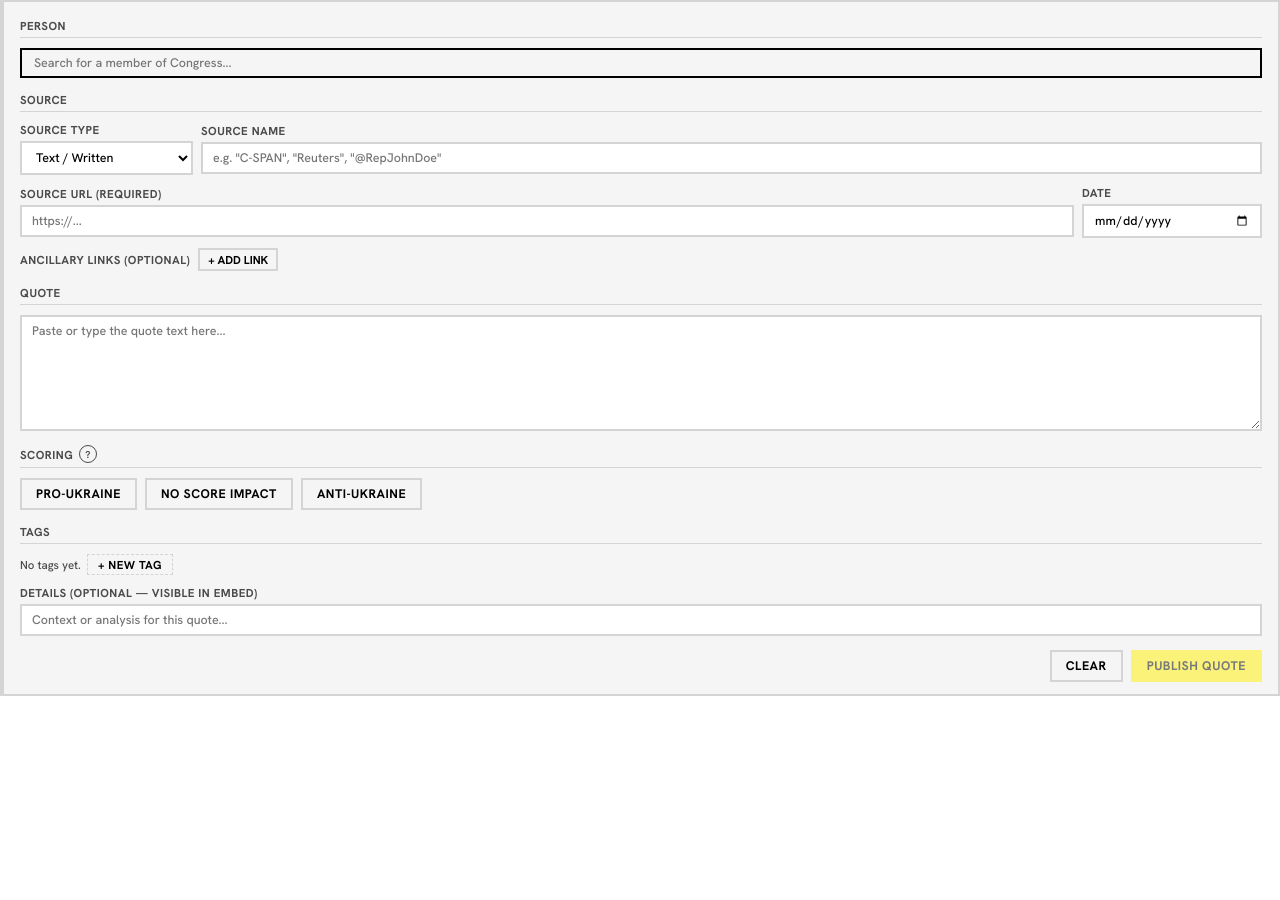
AddQuoteView — validation (no API call on bad input) › rejects an invalid (non-https) source URL
This screenshot has width=1280, height=900.
Expected: the text "Person" is shown, [20,18,1262,38]
Step 1. Type "Ali" into the field with placeholder "Search for a member of Congress..." → point(641, 63), box [32,54,1250,72]
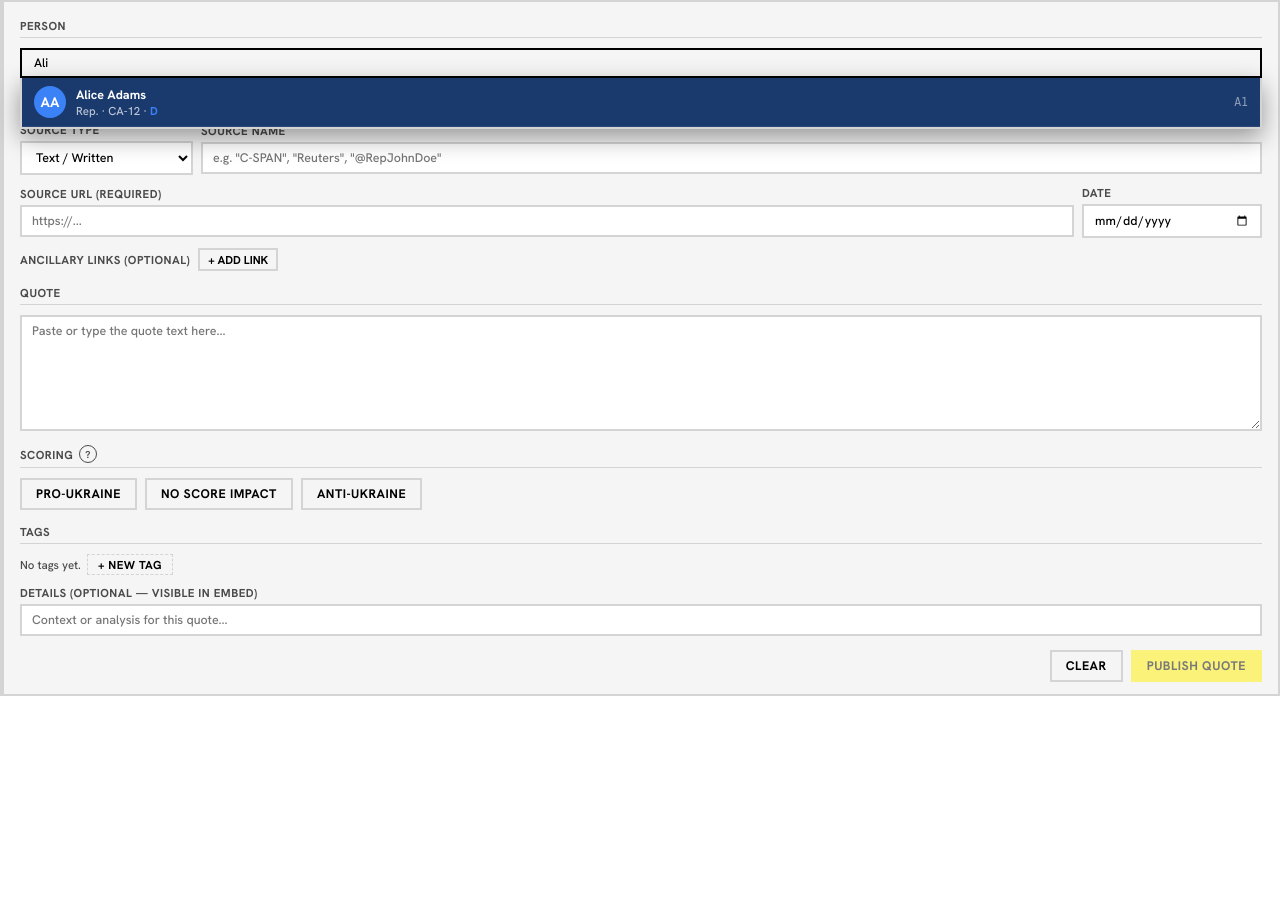
Step 2. Click the text "Alice Adams" → point(111, 94), box [76,86,146,102]
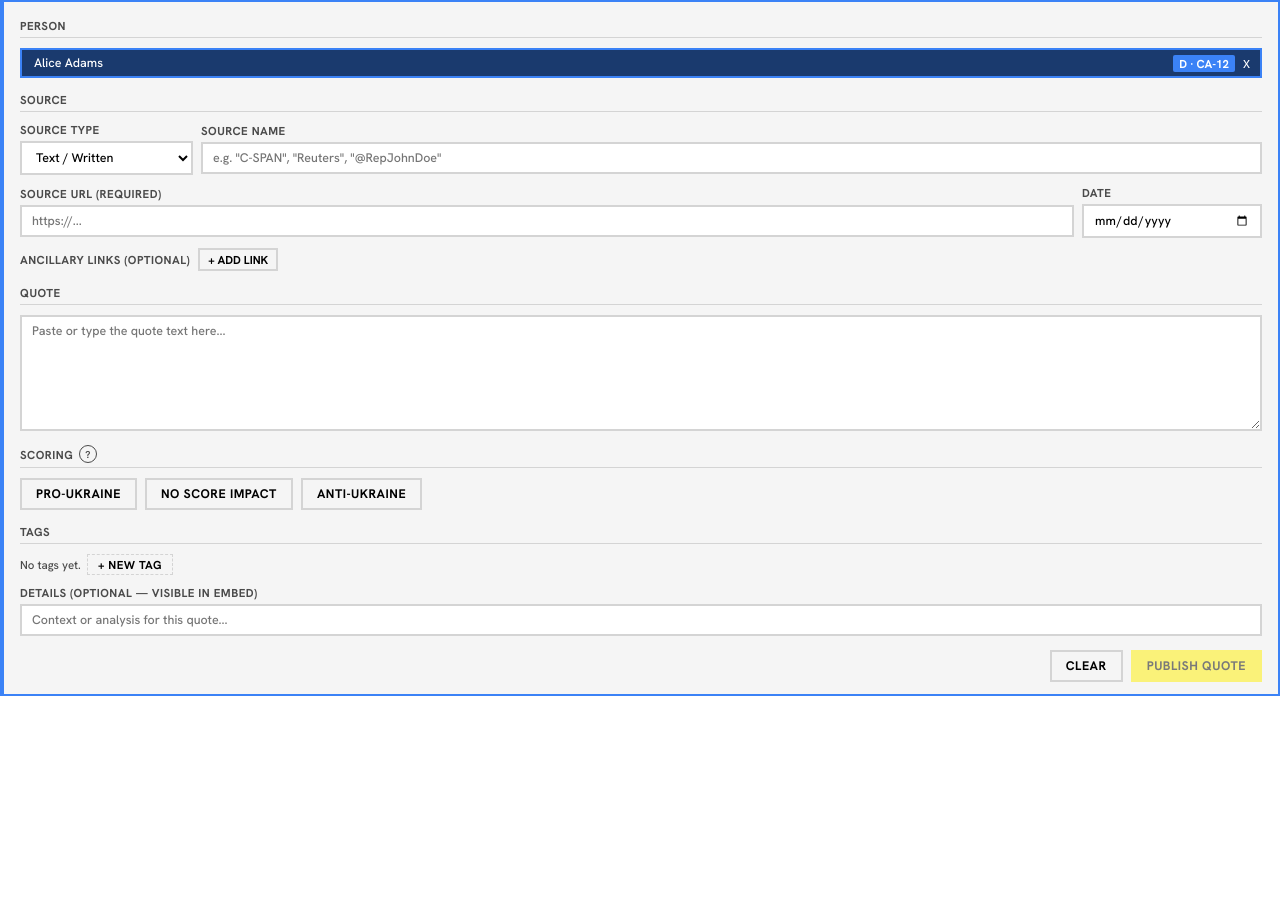
Step 3. Type "not a url" into the field with placeholder "https://..." → point(547, 221), box [20,205,1074,237]
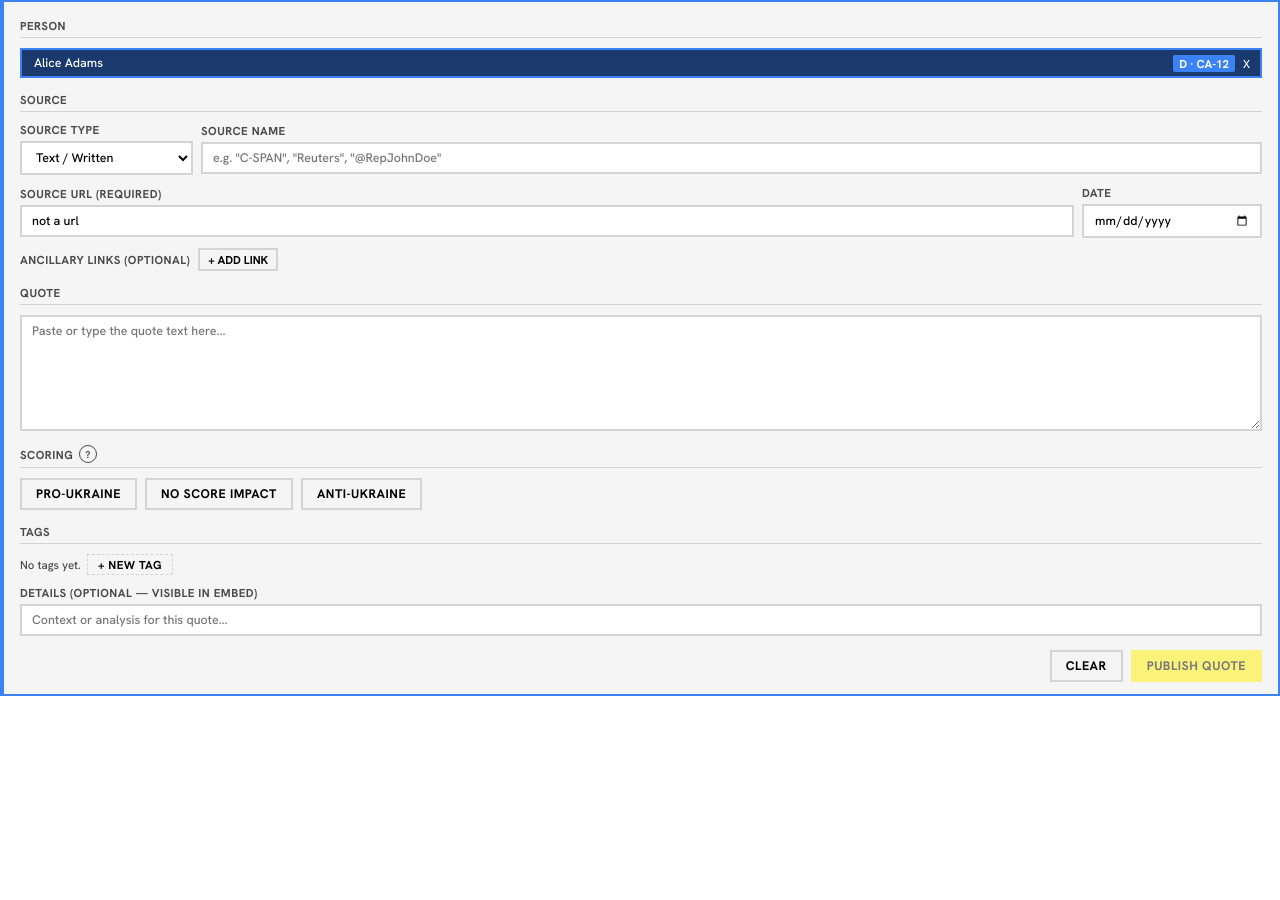
Step 4. Type "A quote" into the text box with placeholder "Paste or type the quote text here..." → point(641, 373), box [20,315,1262,431]
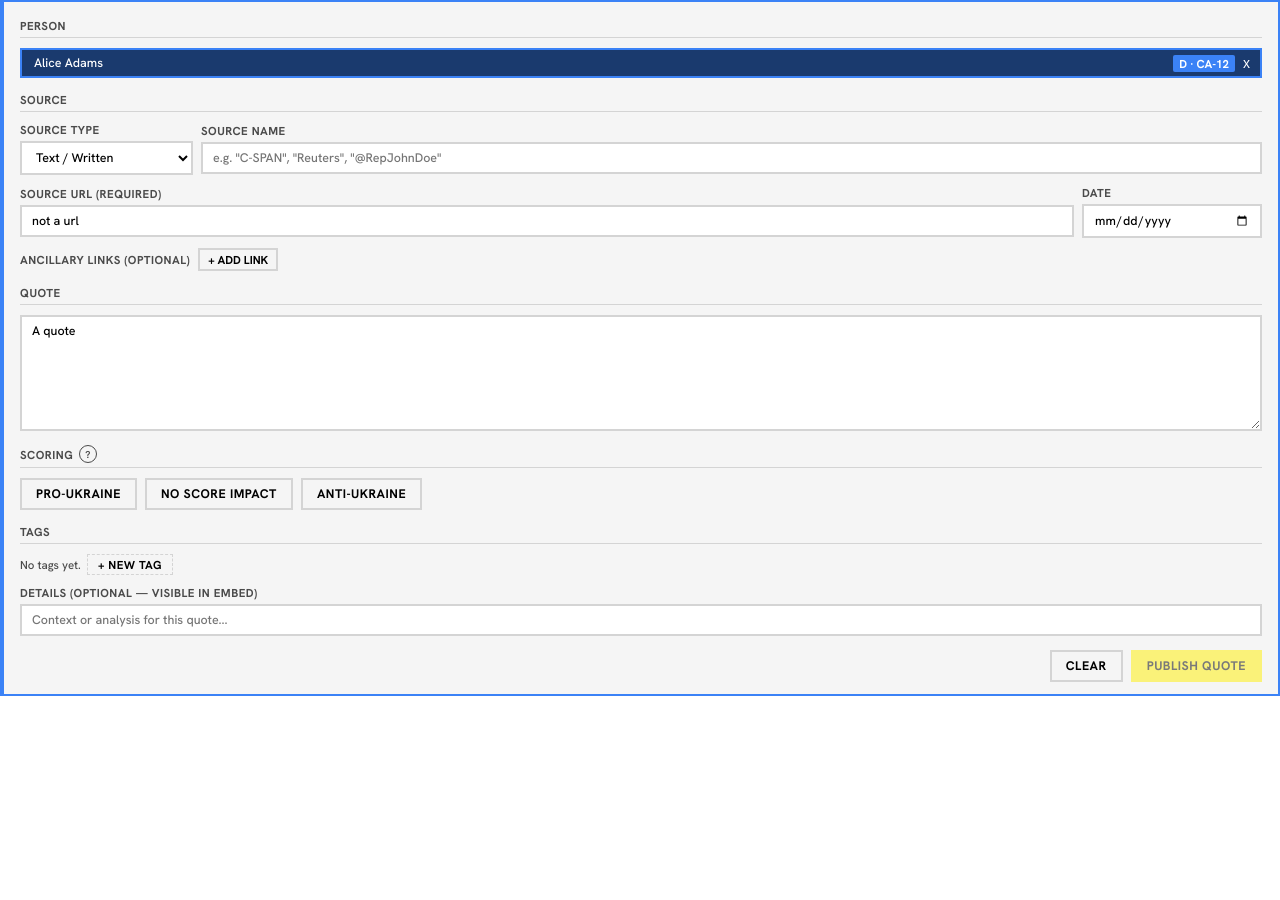
Step 5. Click the button "Pro-Ukraine" → point(78, 494), box [20,478,137,510]
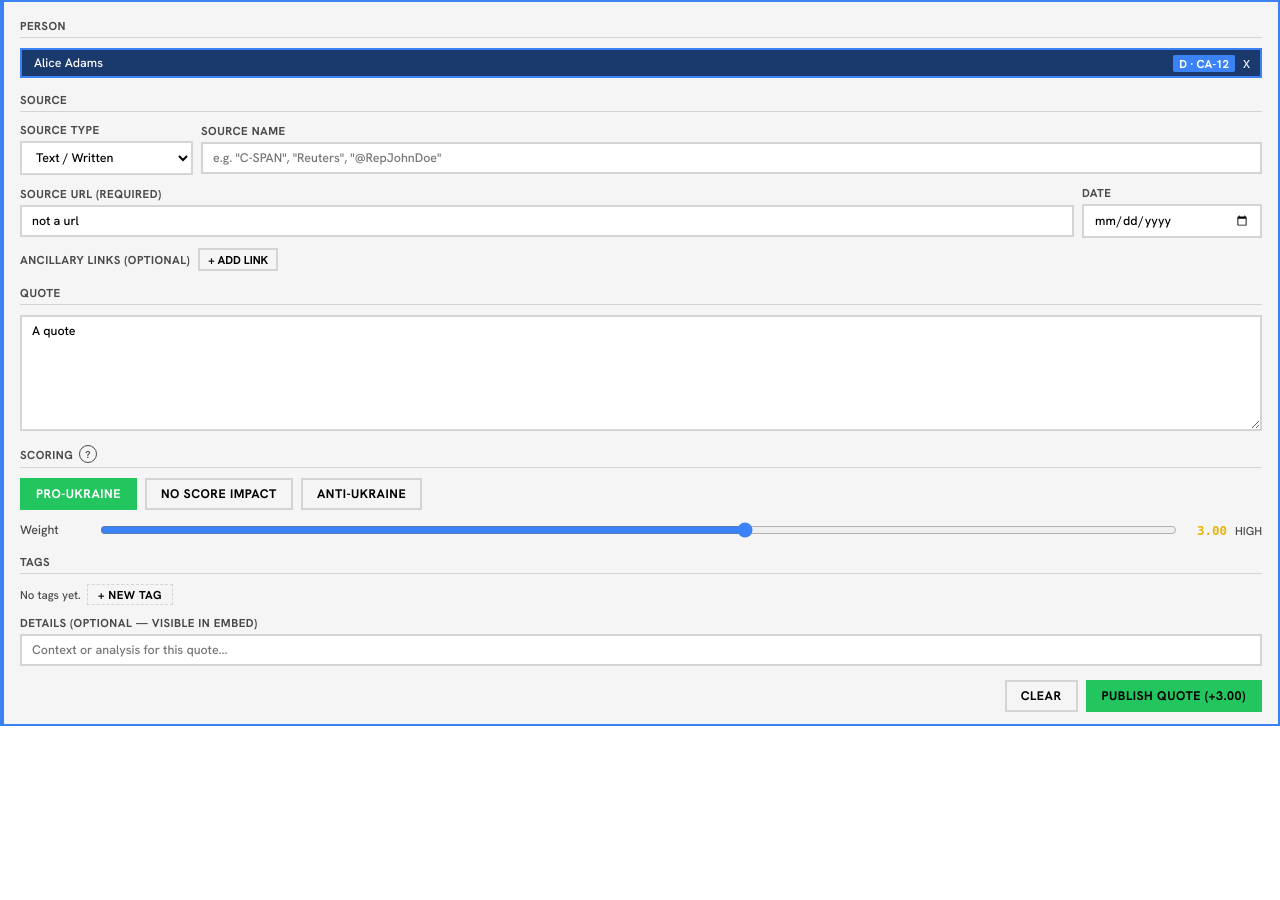
Step 6. Click the button "Publish quote (+3.00)" → point(1174, 696), box [1086,680,1262,712]
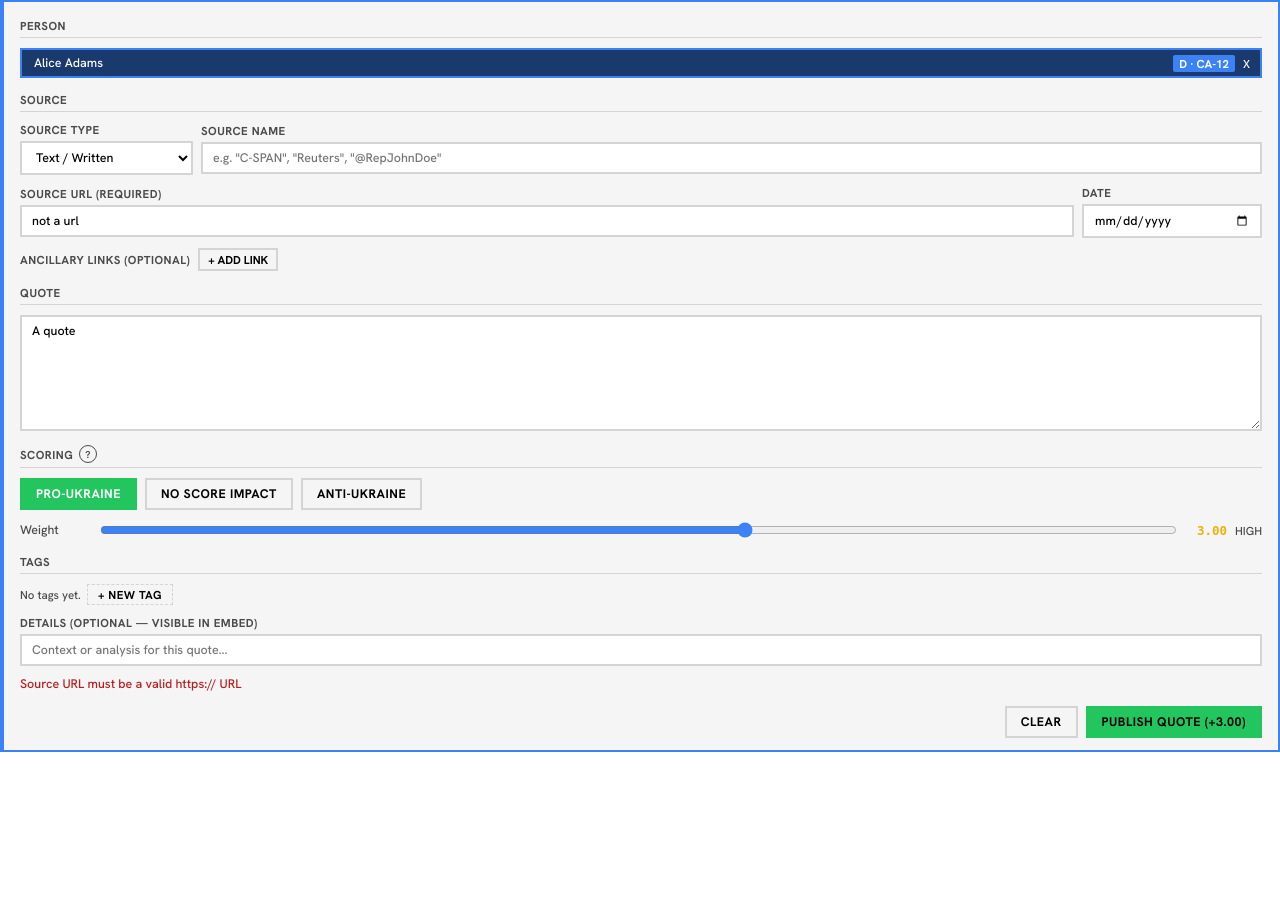
Now the text "Source URL must be a valid https:// URL" is shown, box [20,676,241,692]
